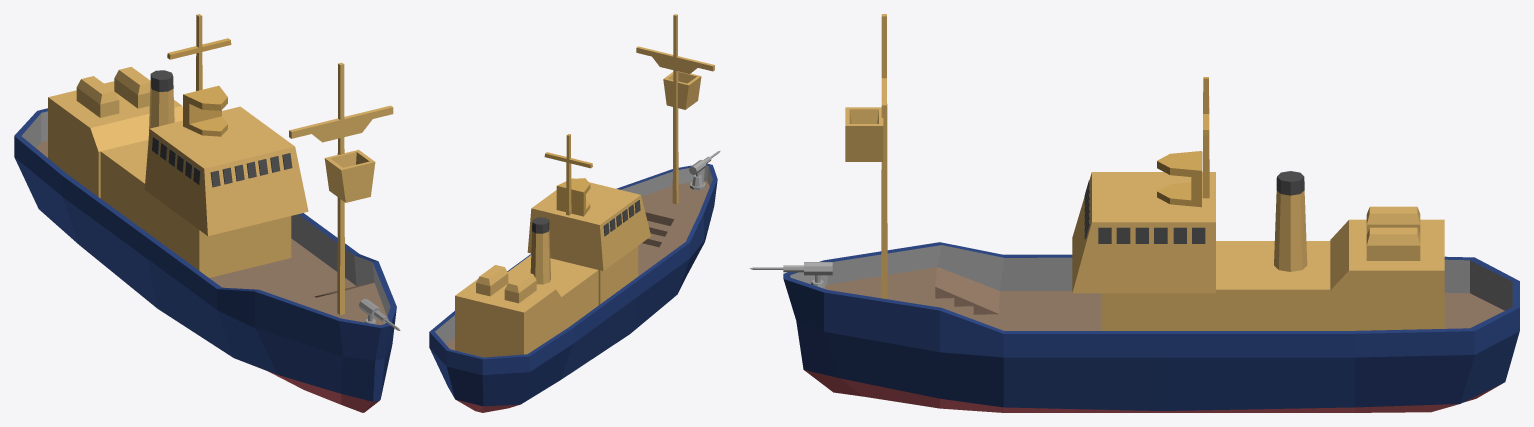
Rendered from Hunt.fbx.
The picture shows the model from 3 angles, left to right: view 1: azimuth 30°, elevation 25°; view 2: azimuth 150°, elevation 25°; view 3: azimuth 270°, elevation 25°; orthographic projection. The views are drawn at different scales.
Parts seen in each view (by area): view 1: Hunt; view 2: Hunt; view 3: Hunt.
Part boxes in pixels (x1,y1,x2,y2): Hunt: (14,14,400,412); Hunt: (429,14,720,412); Hunt: (749,14,1519,412).
Size of the model in its own units: 201 by 459 by 830.
